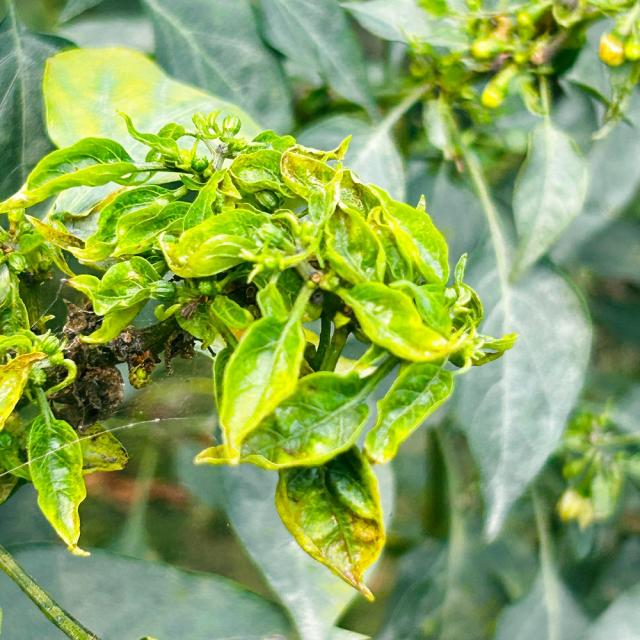Chilli_Leaf_Curl: (0, 106, 518, 603), (273, 445, 387, 603)
